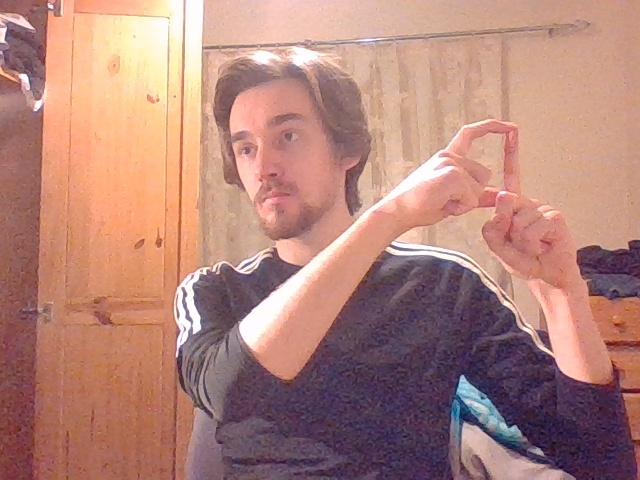daughter: (427, 120, 571, 273)
